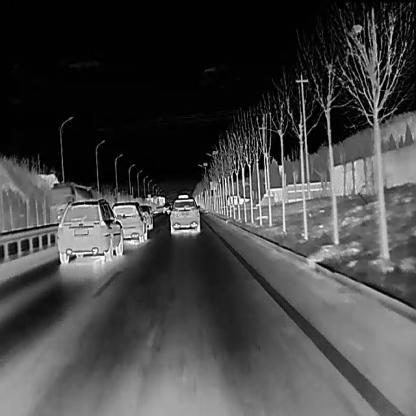car: (55, 198, 123, 264), (110, 201, 146, 243), (167, 196, 200, 235), (139, 204, 152, 229), (225, 194, 248, 206), (161, 201, 171, 213)
